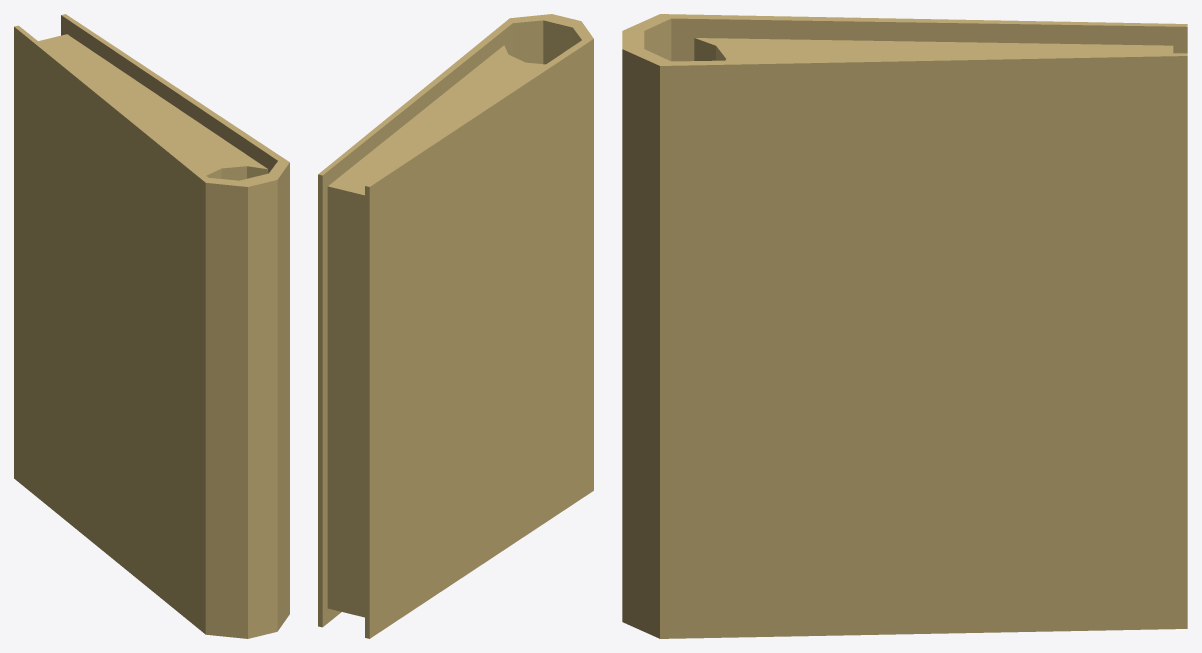
File: 09_book_folder.glb
The picture shows the model from 3 angles, left to right: view 1: azimuth 30°, elevation 25°; view 2: azimuth 150°, elevation 25°; view 3: azimuth 270°, elevation 25°; orthographic projection. The views are drawn at different scales.
Parts seen in each view (by area): view 1: Book_Folder; view 2: Book_Folder; view 3: Book_Folder.
Part boxes in pixels (bbox=[...]): Book_Folder: bbox=[14, 14, 289, 638]; Book_Folder: bbox=[318, 14, 593, 638]; Book_Folder: bbox=[622, 14, 1187, 638].
Bounding box in the file's own units: 0.067 × 0.3438 × 0.3074.
